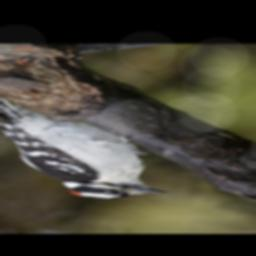Woodpecker: (0, 92, 171, 199)
